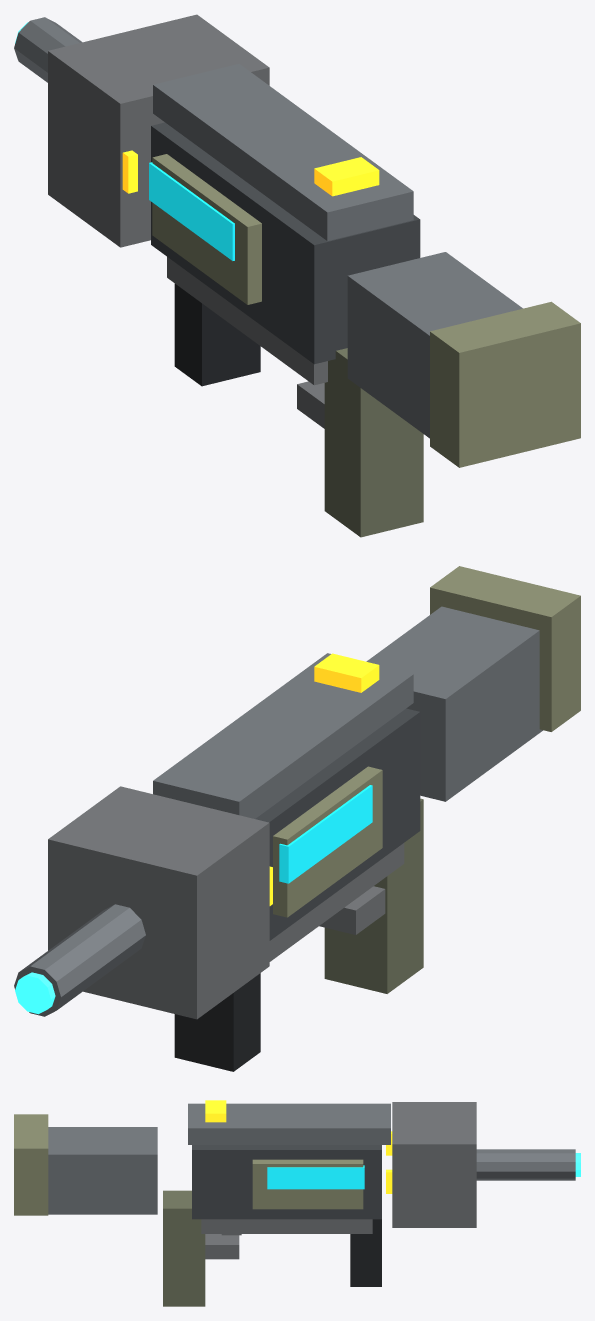
File: rifle.glb
3 renders of one model, top to bottom at view 1: azimuth 30°, elevation 25°; view 2: azimuth 150°, elevation 25°; view 3: azimuth 270°, elevation 25°, orthographic. The views are drawn at different scales.
Visible parts, largest first — view 1: rifle_front_shroud, rifle_rear_olive_pad, rifle_receiver_top_rail, rifle_receiver_core, rifle_rear_stock_core, rifle_pistol_grip, rifle_olive_side_left, rifle_foregrip, rifle_lower_frame, rifle_cyan_core_glass_left, rifle_outer_barrel, rifle_orange_status_top (+1 smaller); view 2: rifle_front_shroud, rifle_rear_stock_core, rifle_receiver_top_rail, rifle_receiver_core, rifle_rear_olive_pad, rifle_pistol_grip, rifle_olive_side_left, rifle_outer_barrel, rifle_foregrip, rifle_cyan_core_glass_left, rifle_lower_frame, rifle_orange_status_top (+2 smaller); view 3: rifle_front_shroud, rifle_rear_stock_core, rifle_receiver_core, rifle_receiver_top_rail, rifle_pistol_grip, rifle_olive_side_right, rifle_rear_olive_pad, rifle_outer_barrel, rifle_lower_frame, rifle_cyan_core_glass_right, rifle_foregrip, rifle_trigger_guard_bottom (+1 smaller).
Part boxes in pixels (x1,y1,x2,y2): rifle_front_shroud: (48,14,269,247); rifle_rear_olive_pad: (430,301,580,467); rifle_receiver_top_rail: (153,64,413,240); rifle_receiver_core: (151,122,420,364); rifle_rear_stock_core: (347,252,522,438); rifle_pistol_grip: (324,348,423,537); rifle_olive_side_left: (152,154,261,304); rifle_foregrip: (174,283,260,386); rifle_lower_frame: (167,257,327,385); rifle_cyan_core_glass_left: (149,162,234,260); rifle_outer_barrel: (14,17,82,82); rifle_orange_status_top: (314,157,379,196); rifle_front_shroud: (48,786,269,1019); rifle_rear_stock_core: (366,606,542,801); rifle_receiver_top_rail: (153,653,413,818); rifle_receiver_core: (255,708,420,940); rifle_rear_olive_pad: (430,566,580,731); rifle_pistol_grip: (324,798,423,993); rifle_olive_side_left: (273,766,382,917); rifle_outer_barrel: (14,904,145,1016); rifle_foregrip: (174,973,260,1071); rifle_cyan_core_glass_left: (279,785,372,883); rifle_lower_frame: (269,843,404,961); rifle_orange_status_top: (314,653,379,692); rifle_front_shroud: (392,1102,476,1227); rifle_rear_stock_core: (48,1127,157,1214); rifle_receiver_core: (192,1145,381,1219); rifle_receiver_top_rail: (188,1103,390,1144); rifle_pistol_grip: (163,1190,205,1306); rifle_olive_side_right: (252,1159,363,1209); rifle_rear_olive_pad: (14,1114,48,1215); rifle_outer_barrel: (476,1149,575,1180); rifle_lower_frame: (201,1219,372,1233); rifle_cyan_core_glass_right: (267,1165,364,1189); rifle_foregrip: (350,1219,381,1286); rifle_trigger_guard_bottom: (205,1234,239,1259).
Bounding box in the file's own units: 0.19 × 0.3985 × 1.08.
